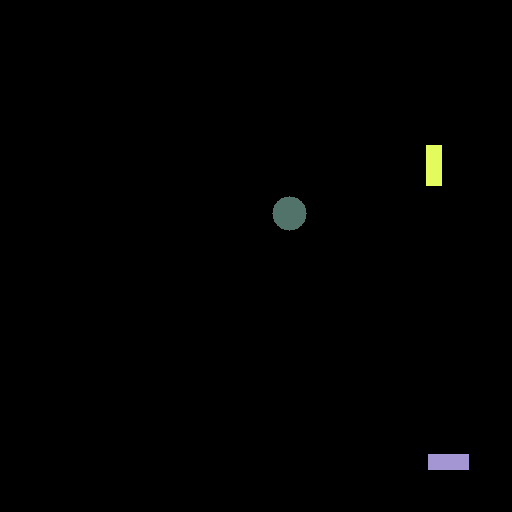circle: (271, 198, 308, 230)
side_rect: (425, 452, 469, 470)
up_rect: (426, 144, 445, 187)
